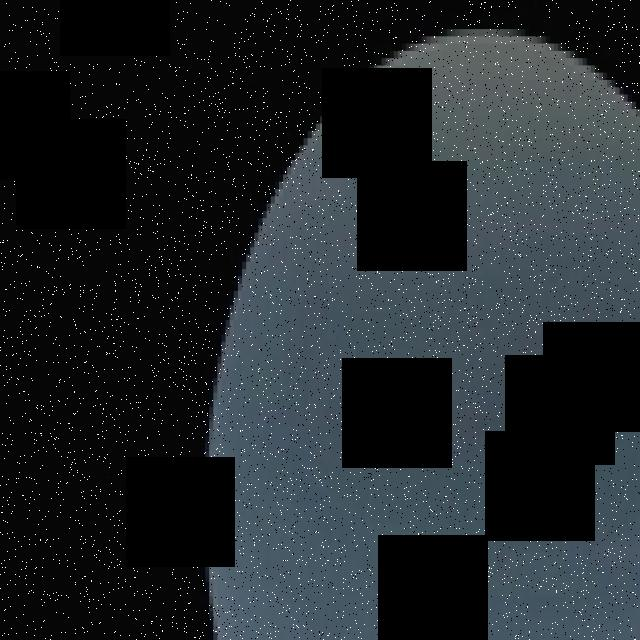Uranus: (205, 29, 640, 640)
